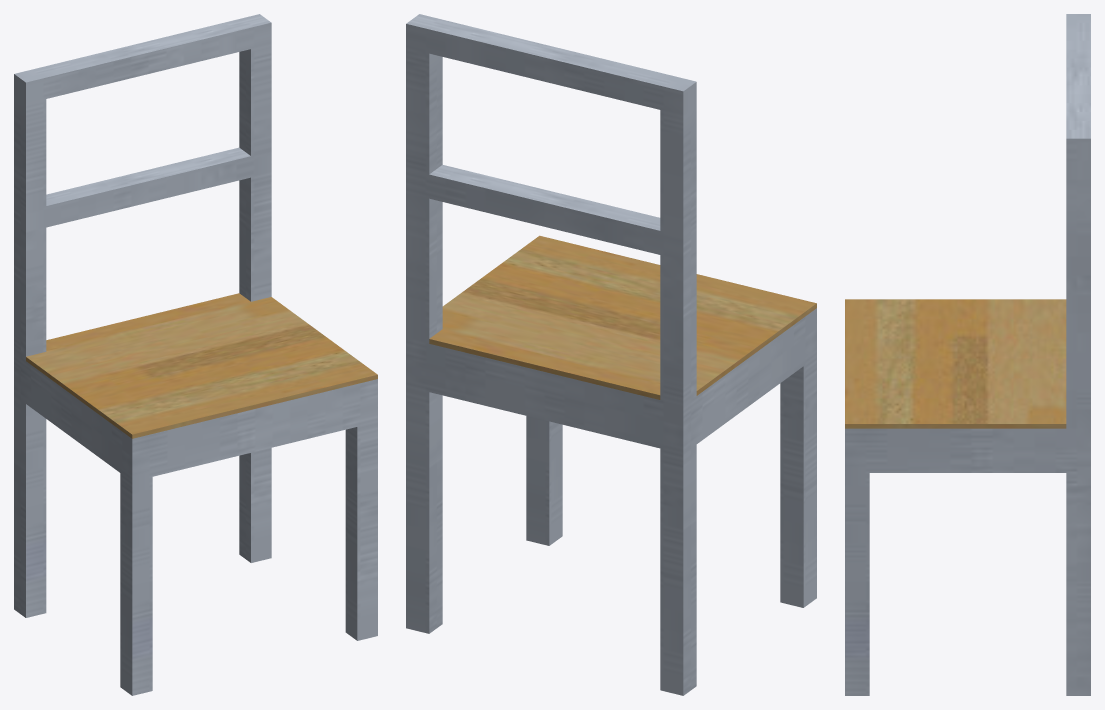
Rendered from silla.glb.
3 renders of one model, left to right at view 1: azimuth 30°, elevation 25°; view 2: azimuth 150°, elevation 25°; view 3: azimuth 270°, elevation 25°, orthographic. The views are drawn at different scales.
Visible parts, largest first — view 1: Root Node; view 2: Root Node; view 3: Root Node.
Part boxes in pixels (bbox=[...]): Root Node: bbox=[14, 14, 377, 695]; Root Node: bbox=[406, 14, 816, 695]; Root Node: bbox=[845, 14, 1090, 695].
Bounding box in the file's own units: 0.6 × 1.25 × 0.5.
46 materials, 46 textured.
